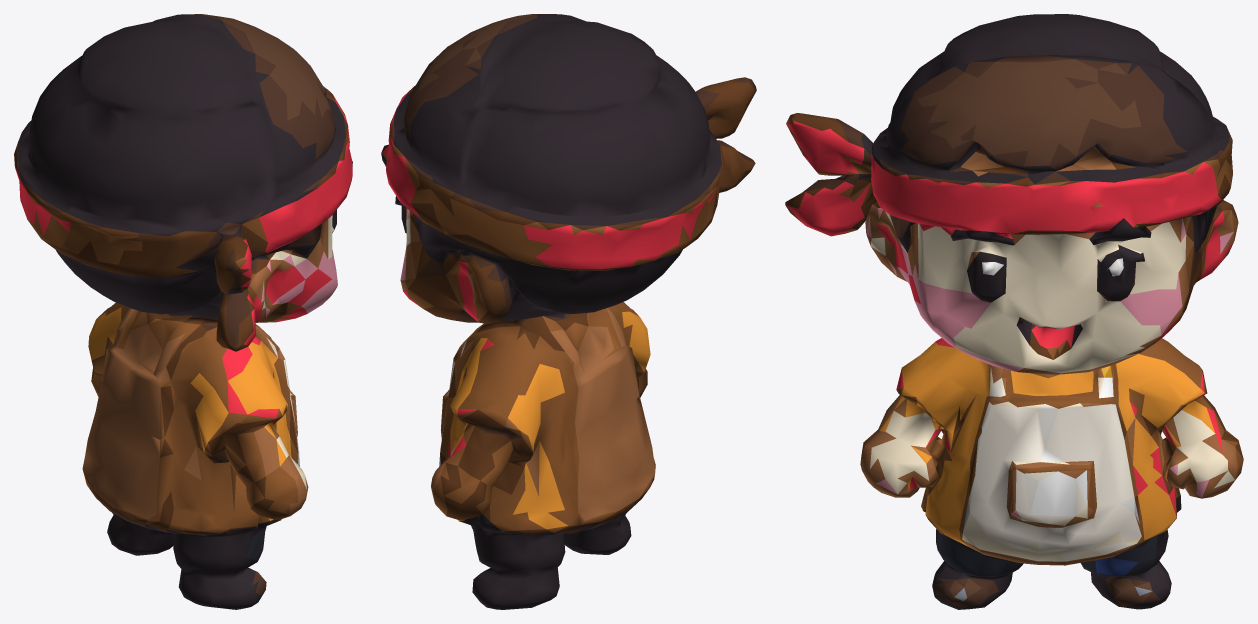
Rendered from SK_hero_press.glb.
3 views of the same model, side by side, from view 1: azimuth 30°, elevation 25°; view 2: azimuth 150°, elevation 25°; view 3: azimuth 270°, elevation 25° (orthographic). The views are drawn at different scales.
Visible parts, largest first — view 1: SK_hero_press; view 2: SK_hero_press; view 3: SK_hero_press.
Part boxes in pixels (left/top/right/bottom): SK_hero_press: left=14, top=14, right=352, bottom=609; SK_hero_press: left=381, top=14, right=756, bottom=609; SK_hero_press: left=785, top=14, right=1243, bottom=609.
Bounding box in the file's own units: 0.6341 × 1.15 × 0.8404.
Materials: 1 (1 with a texture image).
